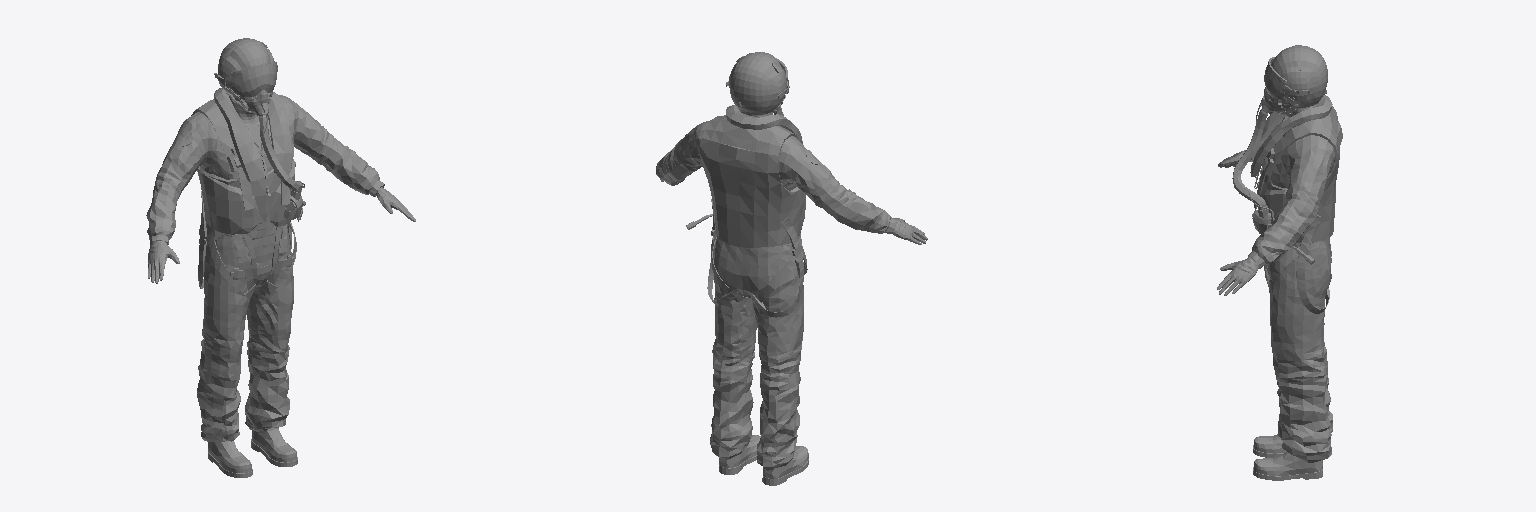
Rendered from PILOT.obj.
The picture shows the model from 3 angles: view 1: azimuth 30°, elevation 25°; view 2: azimuth 150°, elevation 25°; view 3: azimuth 270°, elevation 25°; orthographic projection.
Parts seen in each view (by area): view 1: Mesh_0008, Mesh_0094, Mesh_0011; view 2: Mesh_0008, Mesh_0094; view 3: Mesh_0008, Mesh_0094.
Boxes of the visible parts, x1,y1,x2,y2 form: Mesh_0008: [146, 95, 415, 477]; Mesh_0094: [191, 38, 305, 299]; Mesh_0011: [230, 64, 276, 96]; Mesh_0008: [656, 120, 927, 485]; Mesh_0094: [686, 52, 807, 317]; Mesh_0008: [1217, 116, 1334, 480]; Mesh_0094: [1232, 45, 1342, 313].
Size of the model in its own units: 1.21 by 1.83 by 0.5035.